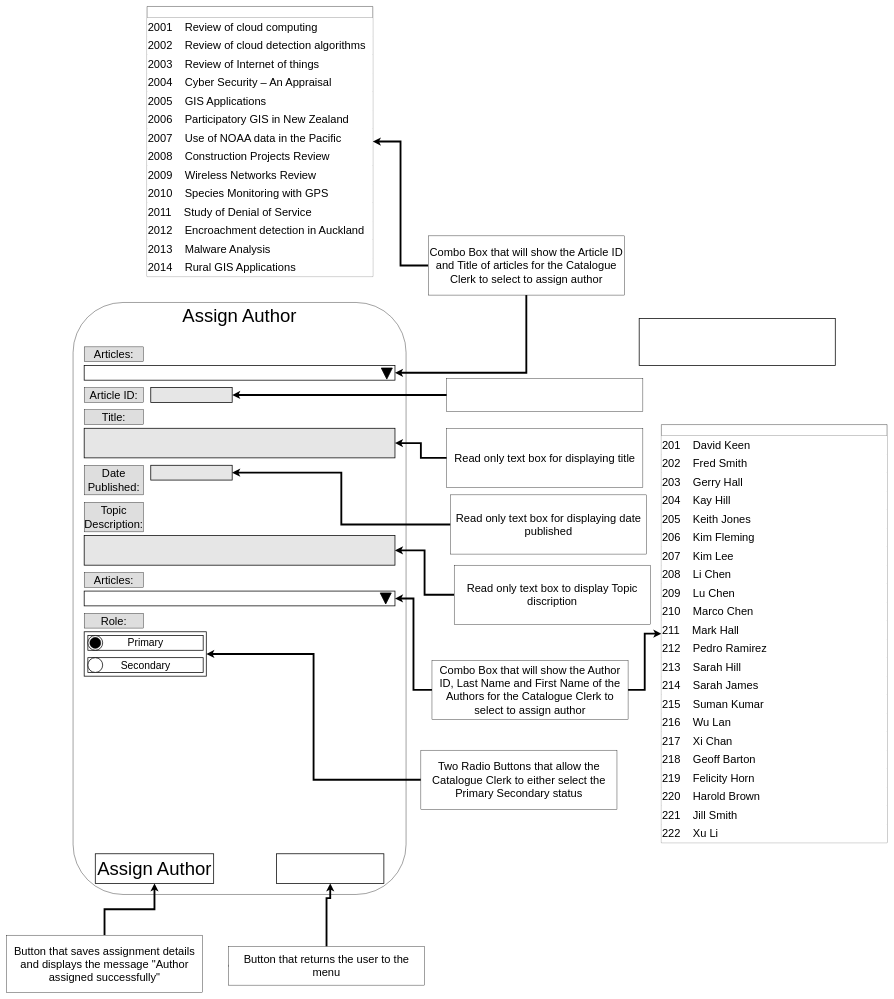
Image size: 894x999. Some labels were removed from this diagram. The shapes that lost their labels are listed below. From the top down, each one's centre as x and y in pixels, then its label:
At point 737,342: "Text in black will be labels, captions, or example of format".
At point 544,395: "Read only Text Box for displaying Article ID".
At point 330,868: "Return".
